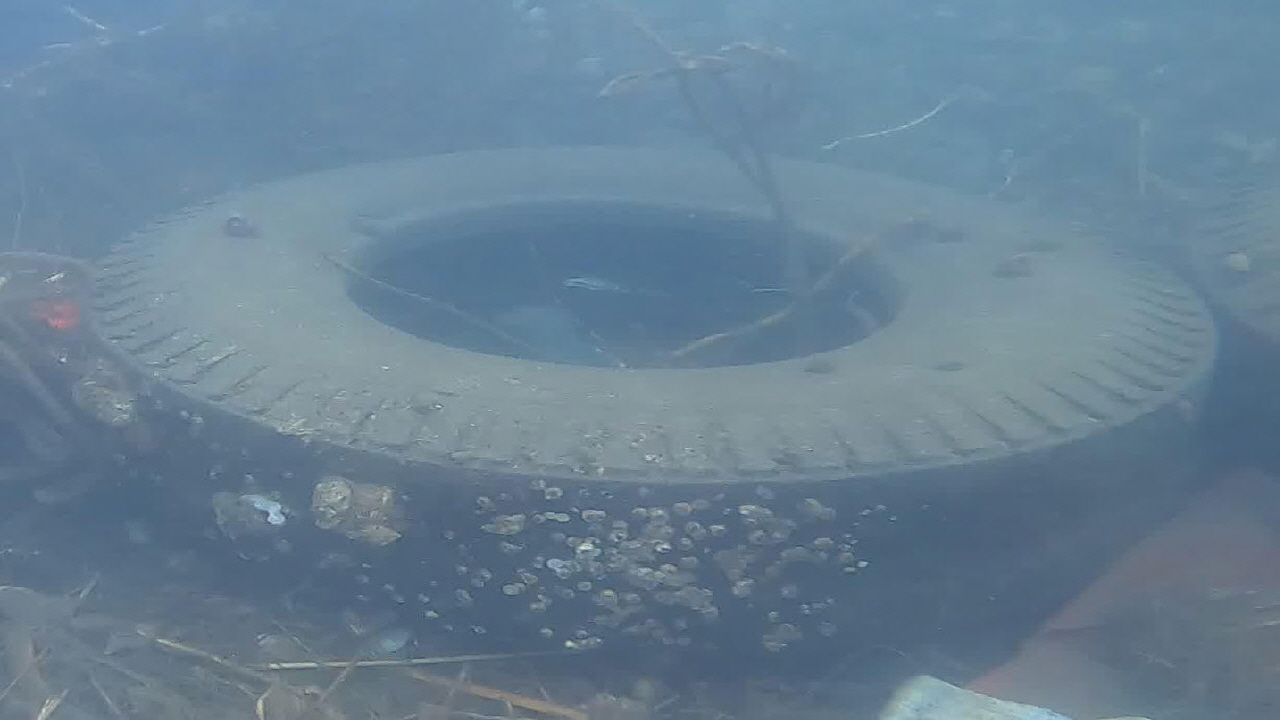tire: (82, 142, 1217, 652)
